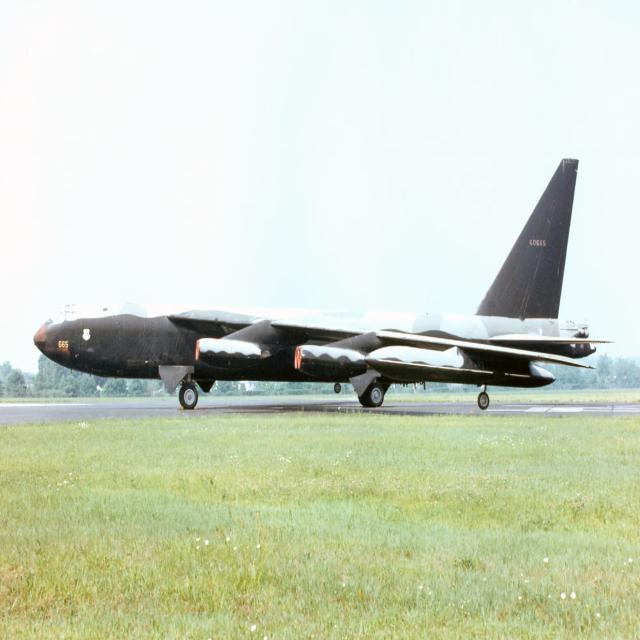B1: (21, 137, 616, 445)
